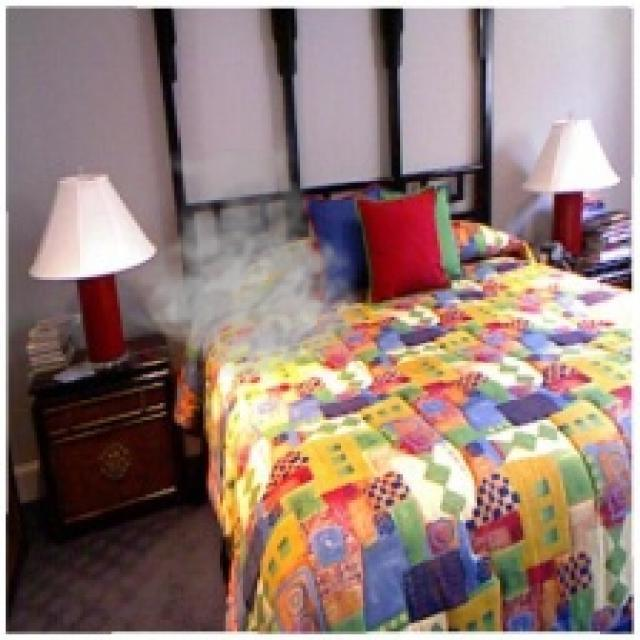Smoke: (122, 128, 372, 380)
